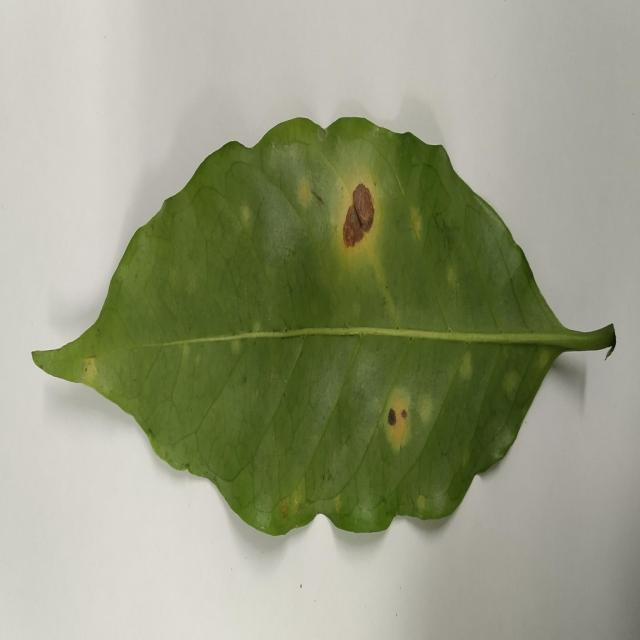Enfermedad-Mancha-de-hierro: (31, 118, 618, 539)
